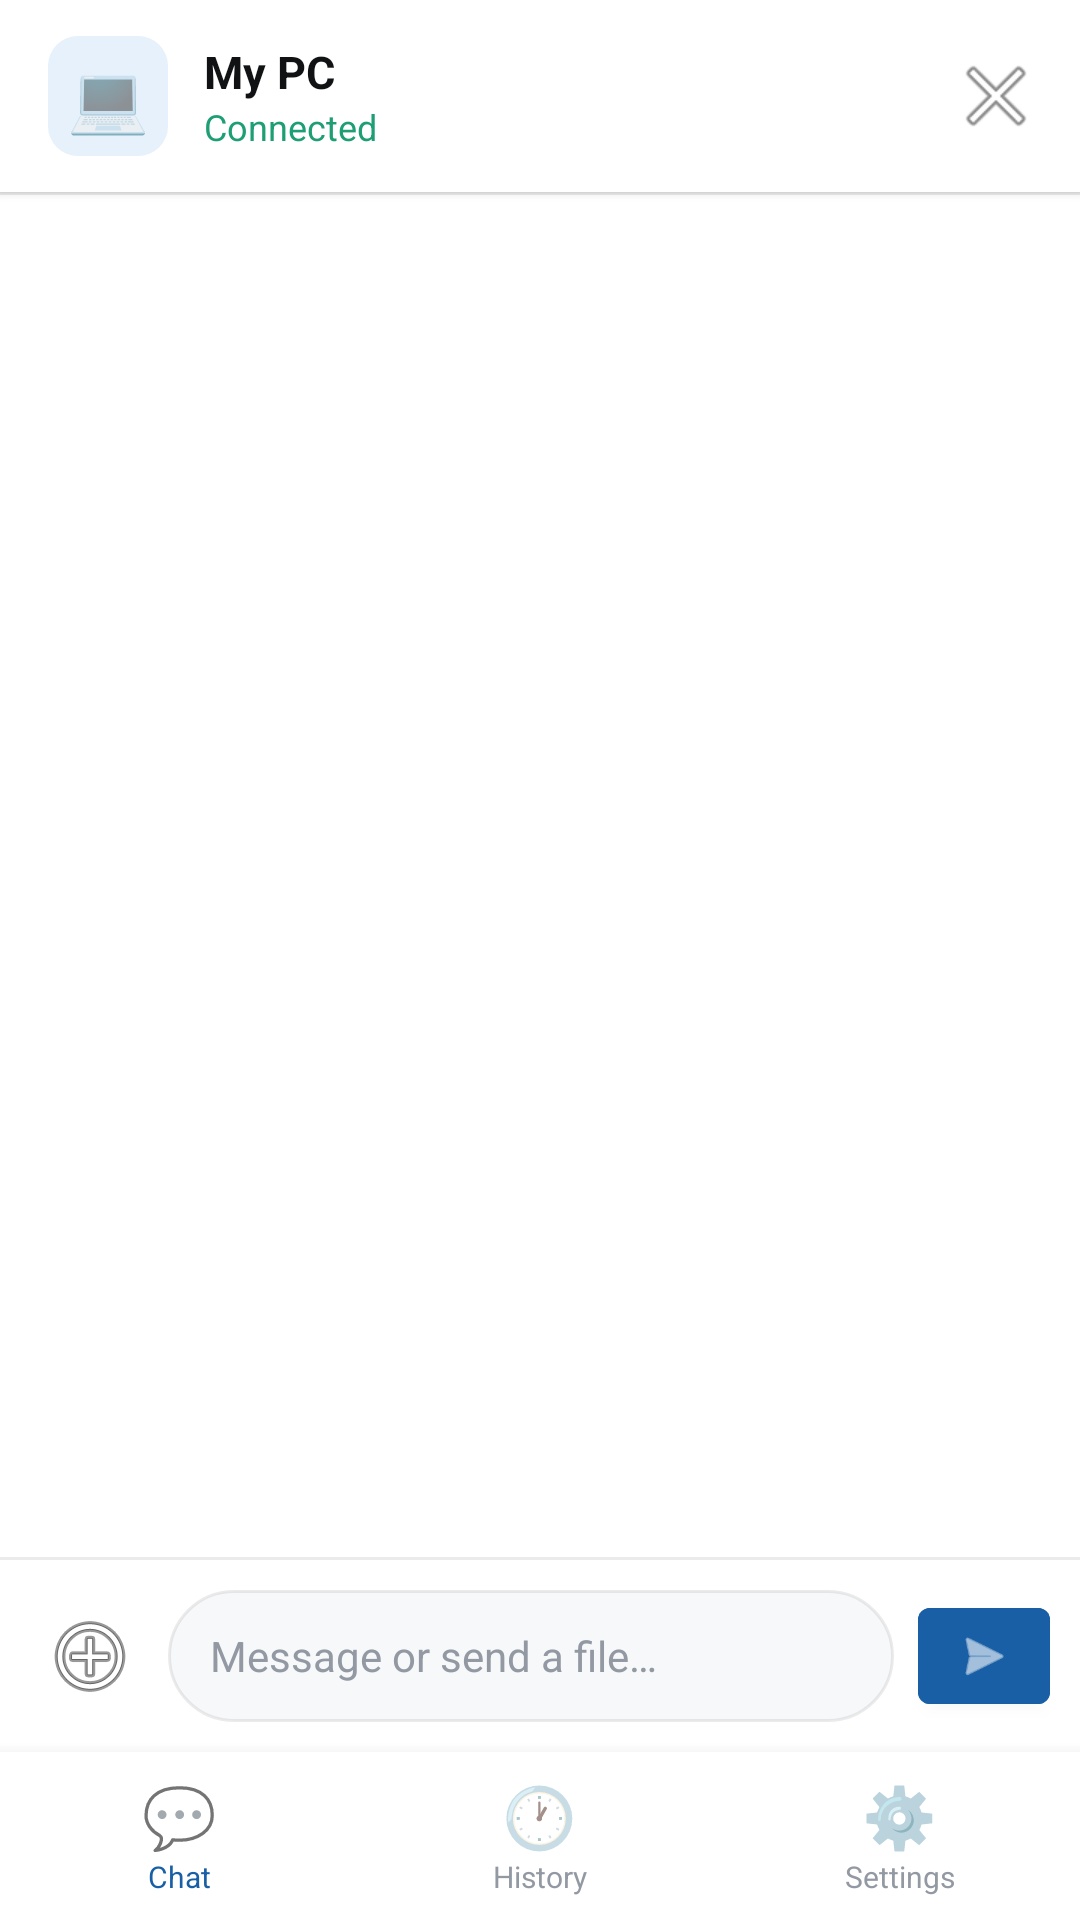

Icon click points for this 1080 x 1920 phone screenshot, format (x,y):
Attach file: (90,1656)
Disconnect: (996,96)
